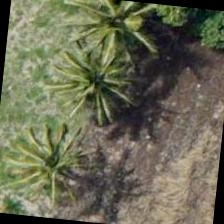Kelapa_Sawit: (48, 33, 146, 132), (3, 112, 102, 210), (67, 0, 164, 71)
